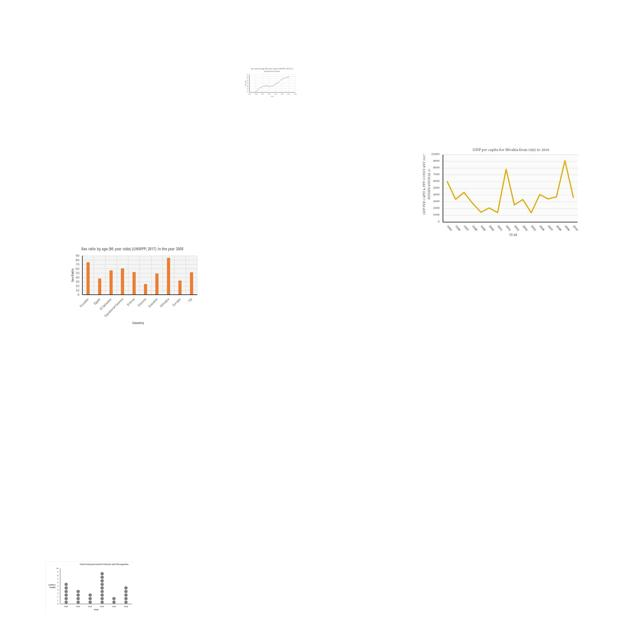Graph: (420, 146, 580, 238), (66, 245, 199, 325), (45, 561, 134, 613), (243, 67, 298, 98)
